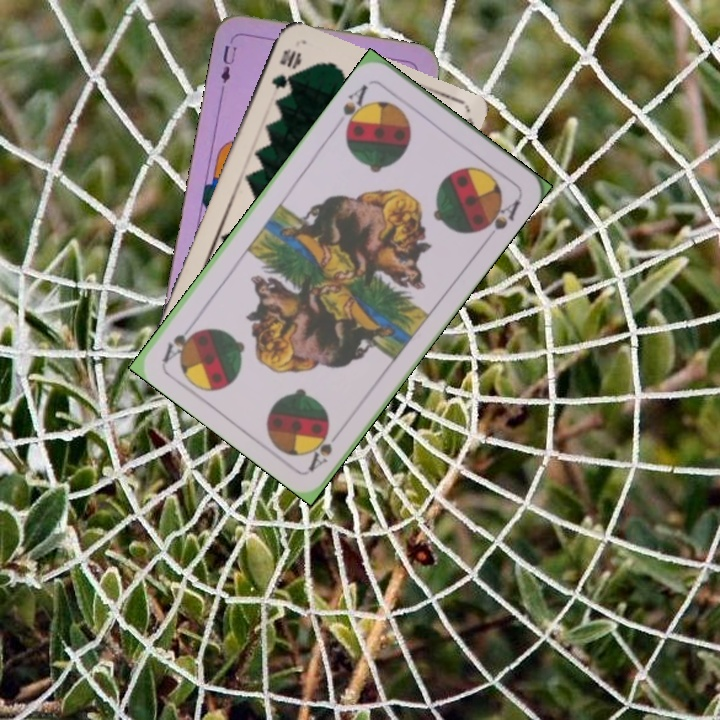EU: (216, 41, 239, 92)
G10: (267, 44, 303, 92)
SA: (304, 422, 347, 474), (338, 79, 372, 135)
